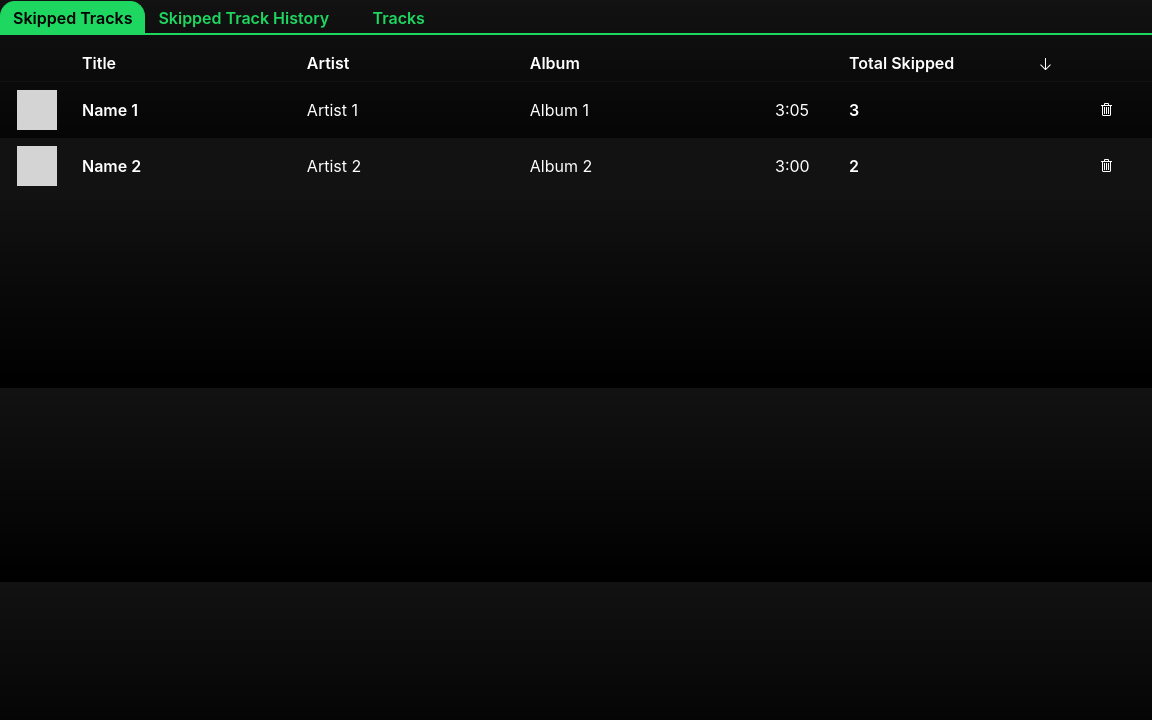
Test: <PlaylistTabs /> › should display Skipped Track History tab when clicked
What coordinates should you click on to do the following:
click the tab with test id "skipped-track-history-tab"
I would click on:
 (244, 18)
Its box is [145, 1, 342, 34].
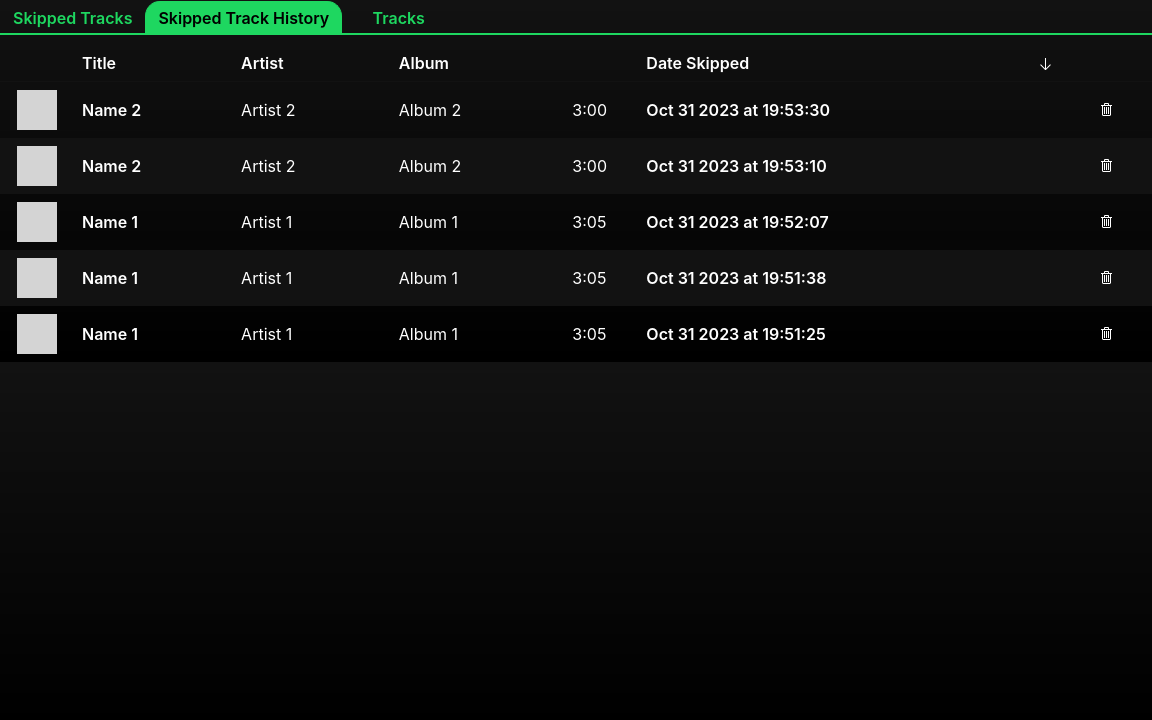
Expected: the table with test id "skipped-track-history-table" is shown, [0, 45, 1151, 362]
